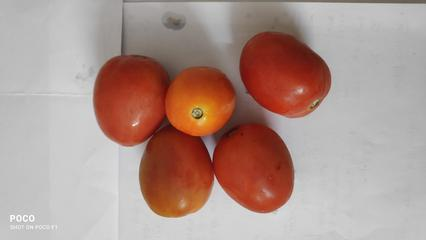tomato: (97, 48, 184, 153), (245, 39, 334, 121), (214, 118, 286, 213), (145, 127, 210, 223), (176, 72, 232, 131)
